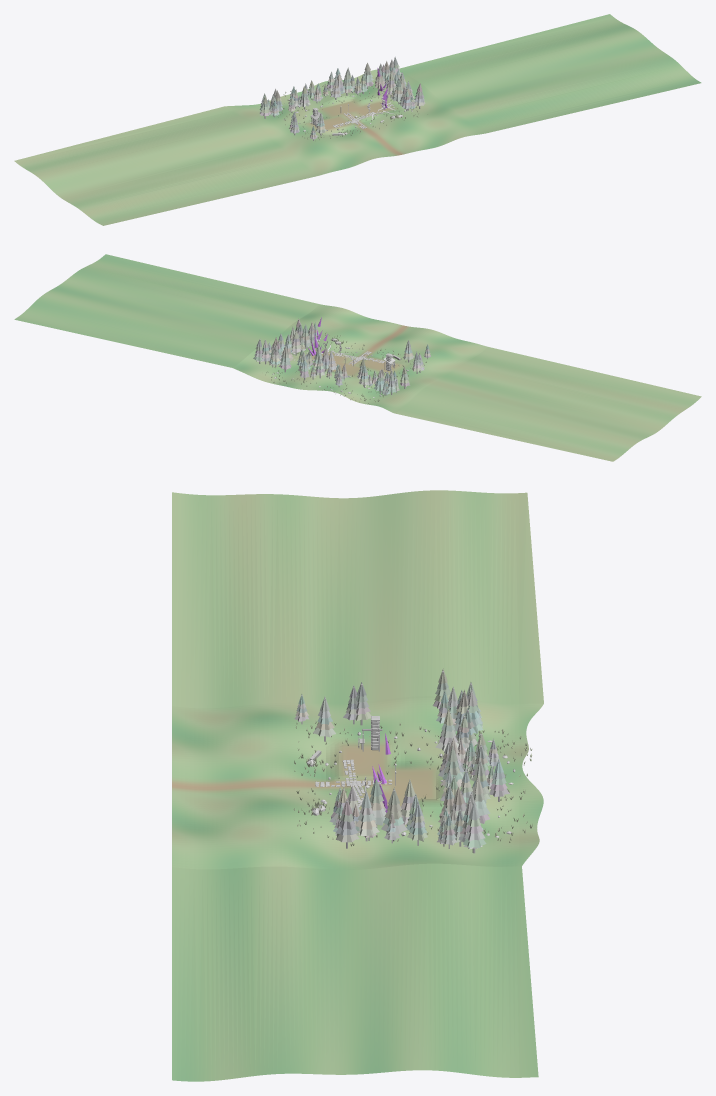
The model's file is Reboot_EnvironmentV2.fbx.
The picture shows the model from 3 angles, top to bottom: view 1: azimuth 30°, elevation 25°; view 2: azimuth 150°, elevation 25°; view 3: azimuth 270°, elevation 25°; orthographic projection. The views are drawn at different scales.
Parts seen in each view (by area): view 1: Family_environment; view 2: Family_environment; view 3: Family_environment.
Part boxes in pixels (bbox=[...]): Family_environment: bbox=[14, 14, 701, 225]; Family_environment: bbox=[14, 254, 701, 461]; Family_environment: bbox=[172, 490, 543, 1081].
Bounding box in the file's own units: 18000 × 1279 × 4865.
